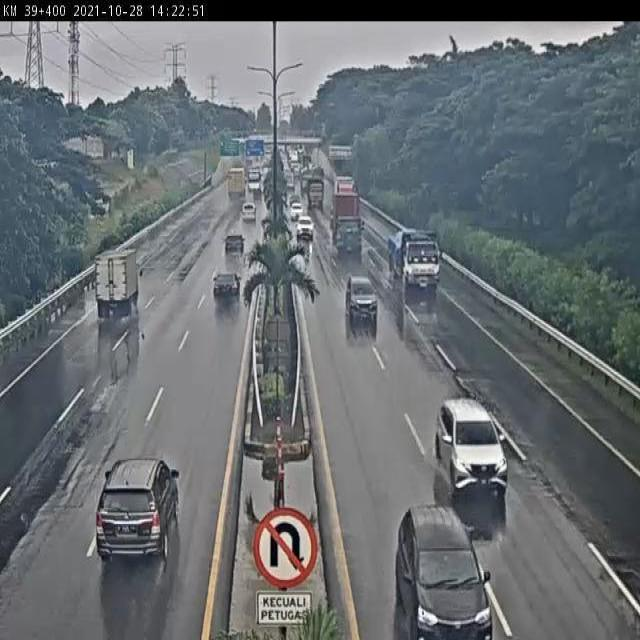ARABA: (95, 456, 181, 563)
KAMYONET: (94, 248, 143, 319)
TIR: (387, 228, 445, 295), (333, 193, 366, 256)
